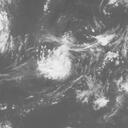cyclone: (37, 30, 86, 80)
